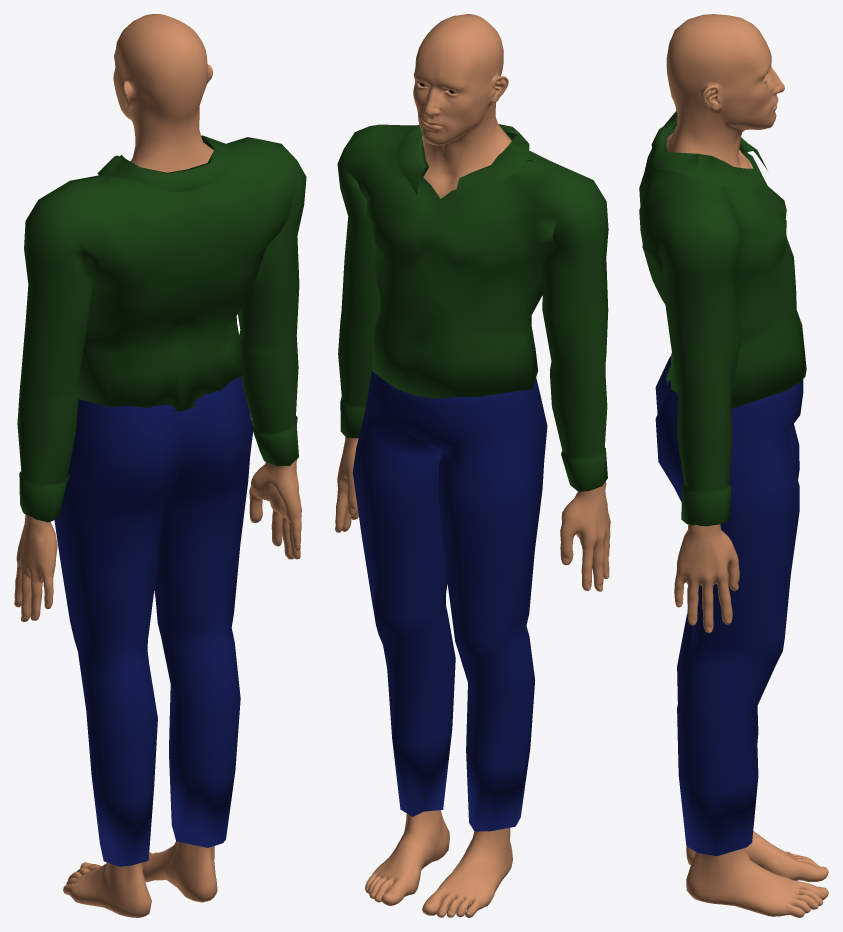
File: stand_v1.obj
3 renders of one model, left to right at view 1: azimuth 30°, elevation 25°; view 2: azimuth 150°, elevation 25°; view 3: azimuth 270°, elevation 25°, orthographic. The views are drawn at different scales.
Parts seen in each view (by area): view 1: human_16; view 2: human_16; view 3: human_16.
Boxes of the visible parts, x1,y1,x2,y2 form: human_16: (14, 14, 306, 917); human_16: (335, 14, 610, 917); human_16: (639, 14, 828, 917).
Size of the model in its own units: 0.5586 by 1.72 by 0.3372.
